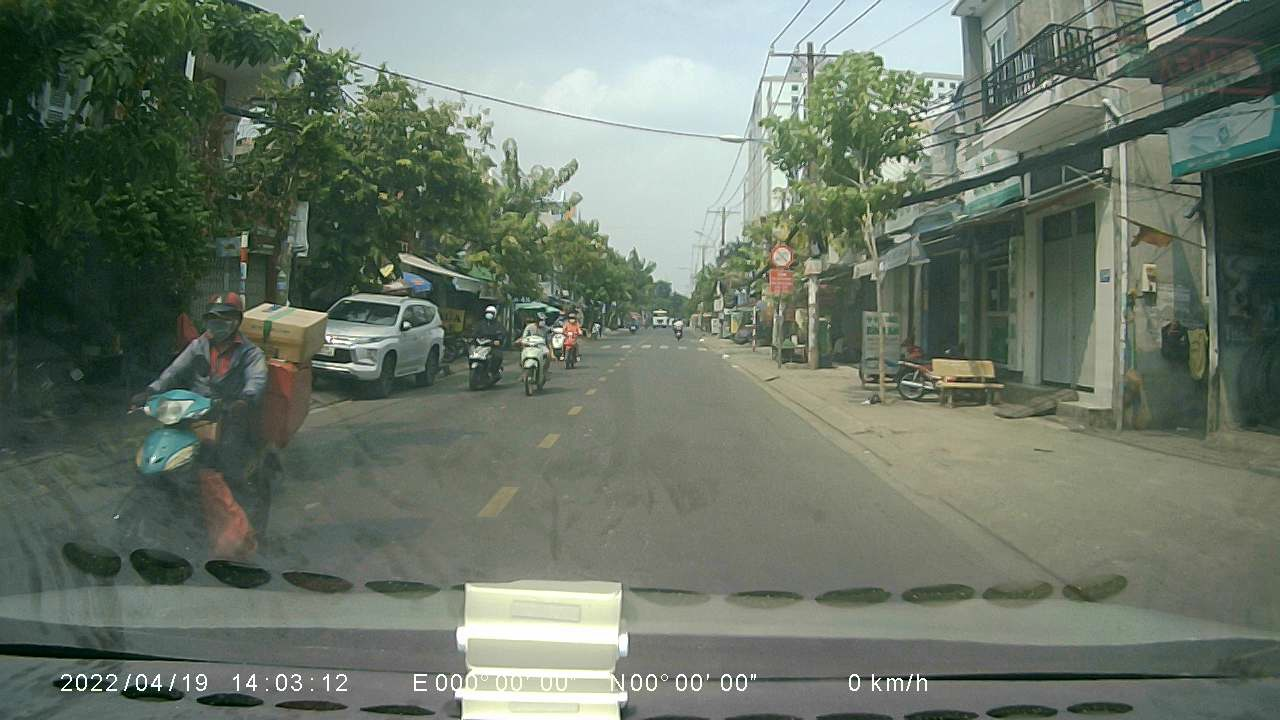Bien khac: (765, 240, 792, 268)
